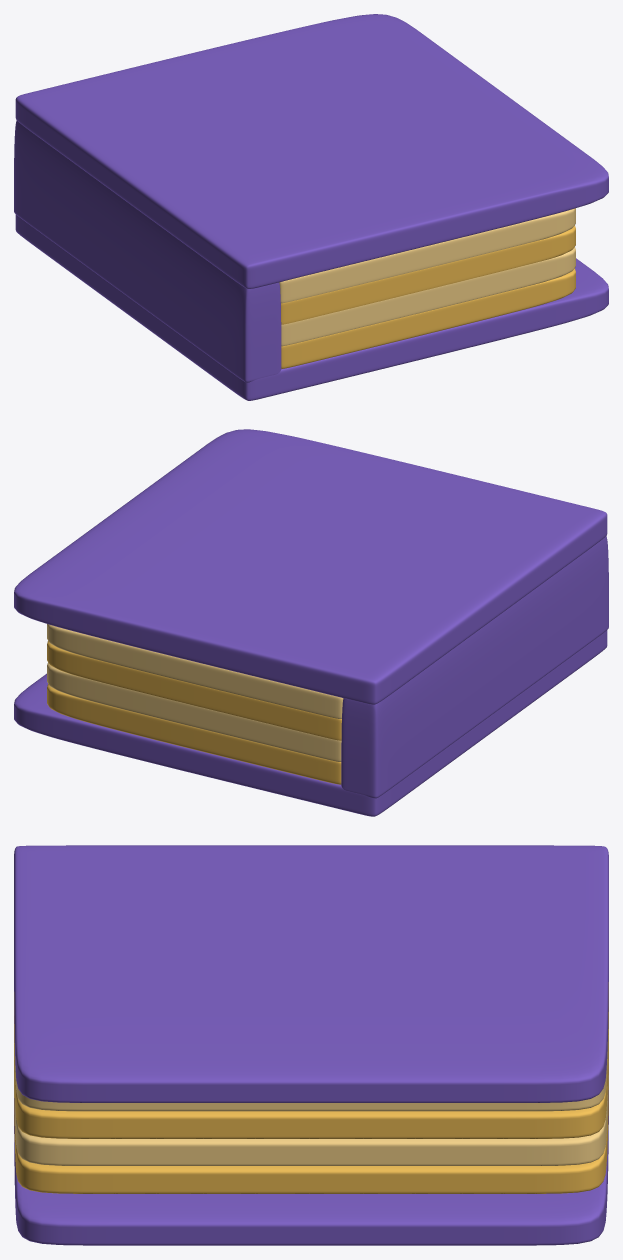
The model's file is папка51.fbx.
The picture shows the model from 3 angles, top to bottom: view 1: azimuth 30°, elevation 25°; view 2: azimuth 150°, elevation 25°; view 3: azimuth 270°, elevation 25°; orthographic projection. The views are drawn at different scales.
Visible parts, largest first — view 1: Cube_2; view 2: Cube_2; view 3: Cube_2.
Boxes of the visible parts, x1,y1,x2,y2 form: Cube_2: (14, 14, 608, 400); Cube_2: (14, 429, 608, 816); Cube_2: (14, 845, 608, 1245).
Size of the model in its own units: 141 by 49.12 by 151.
